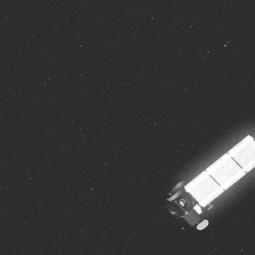earth_observation_sat_1: (153, 132, 255, 240)
